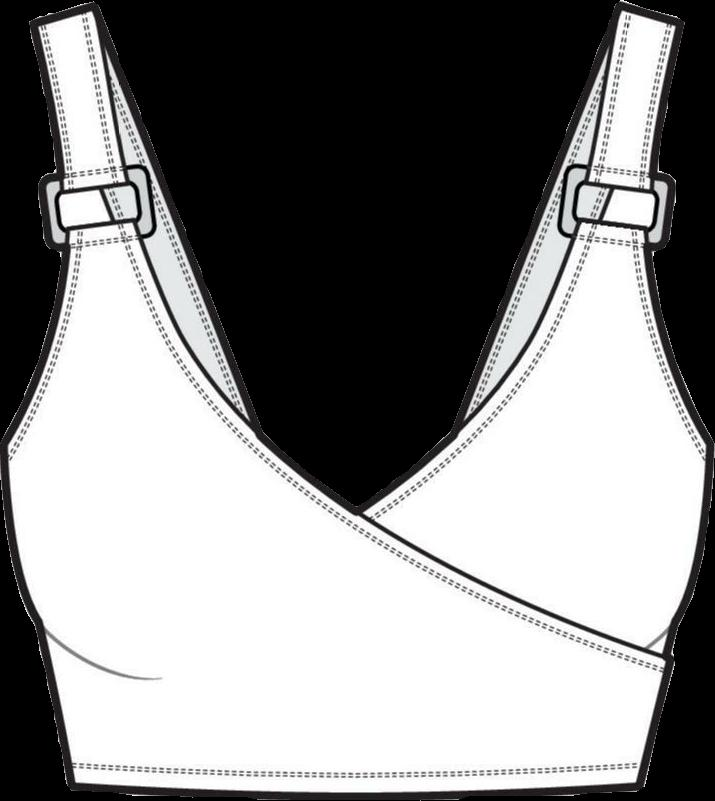Bodice: (0, 0, 712, 794)
Neckline: (91, 4, 627, 518)
Waistline: (67, 775, 643, 800)
